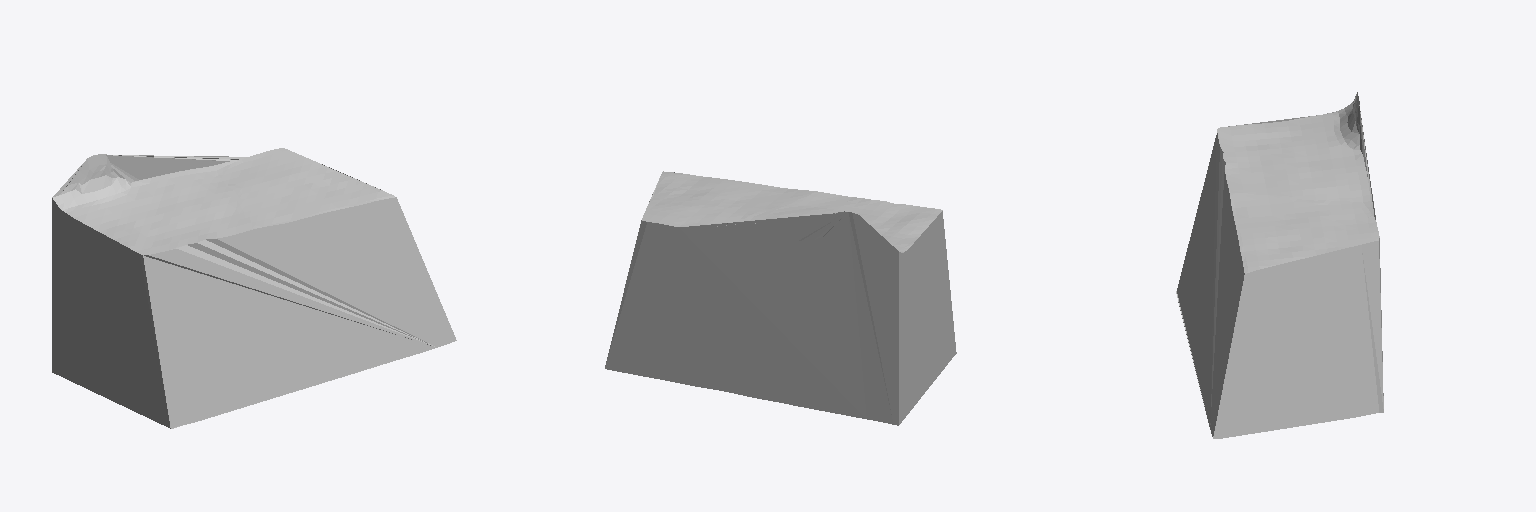
Rendered from low_cell_019.obj.
3 views of the same model, side by side, from view 1: azimuth 30°, elevation 25°; view 2: azimuth 150°, elevation 25°; view 3: azimuth 270°, elevation 25° (orthographic).
Parts seen in each view (by area): view 1: low_cell.019_low_cell.018; view 2: low_cell.019_low_cell.018; view 3: low_cell.019_low_cell.018.
Part boxes in pixels (x1,y1,x2,y2): low_cell.019_low_cell.018: (52, 148, 456, 428); low_cell.019_low_cell.018: (605, 171, 956, 425); low_cell.019_low_cell.018: (1176, 92, 1383, 438).
Bounding box in the file's own units: 0.6637 × 0.3871 × 0.3568.